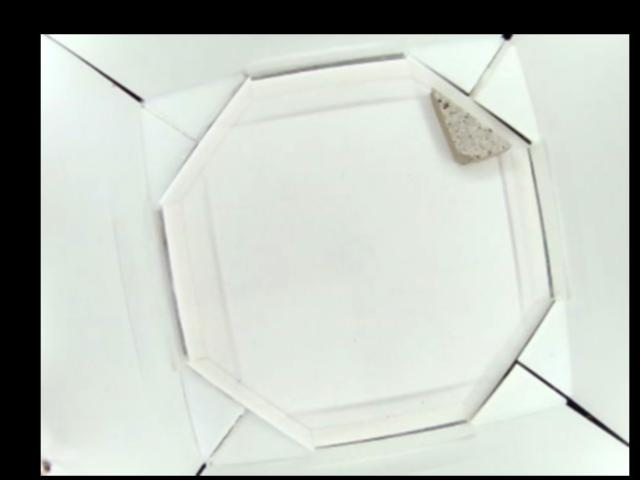China: (432, 88, 510, 162)
